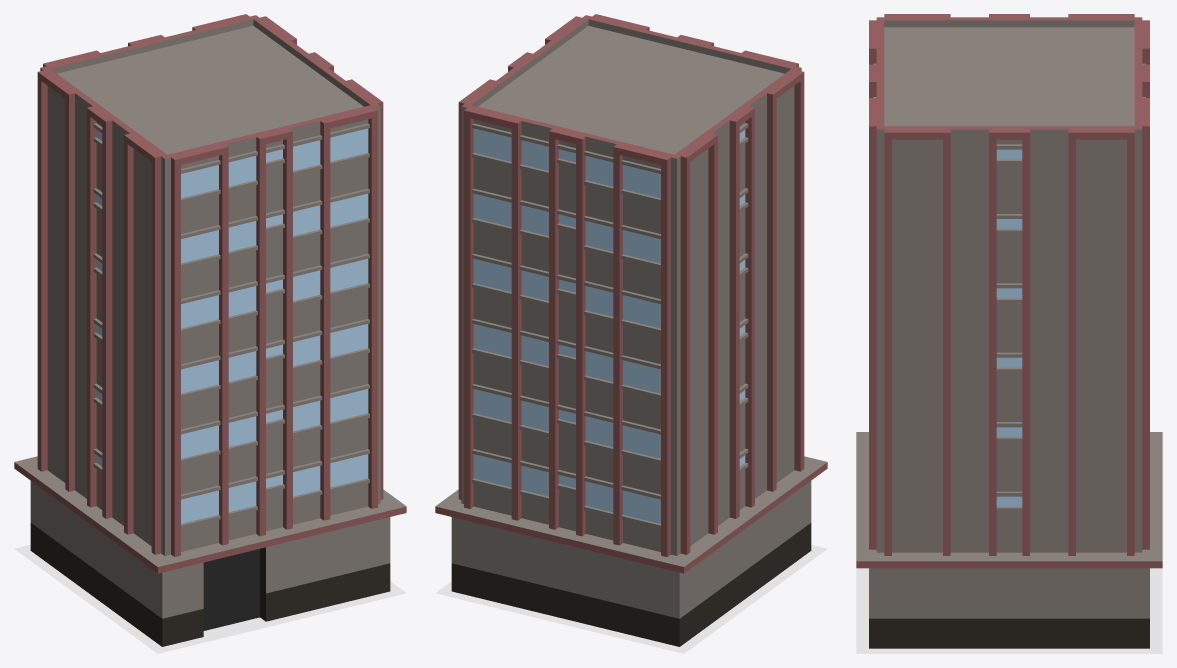
File: building (4).fbx
3 renders of one model, left to right at view 1: azimuth 30°, elevation 25°; view 2: azimuth 150°, elevation 25°; view 3: azimuth 270°, elevation 25°, orthographic. The views are drawn at different scales.
Parts seen in each view (by area): view 1: Model, Group1; view 2: Model, Group1; view 3: Model, Group1.
Part boxes in pixels (left/top/right/bottom): Model: left=14, top=14, right=406, bottom=646; Group1: left=14, top=545, right=406, bottom=653; Model: left=435, top=14, right=827, bottom=646; Group1: left=435, top=545, right=827, bottom=653; Model: left=856, top=14, right=1162, bottom=648; Group1: left=856, top=568, right=1162, bottom=653.
Bounding box in the file's own units: 120 × 223 × 120.
